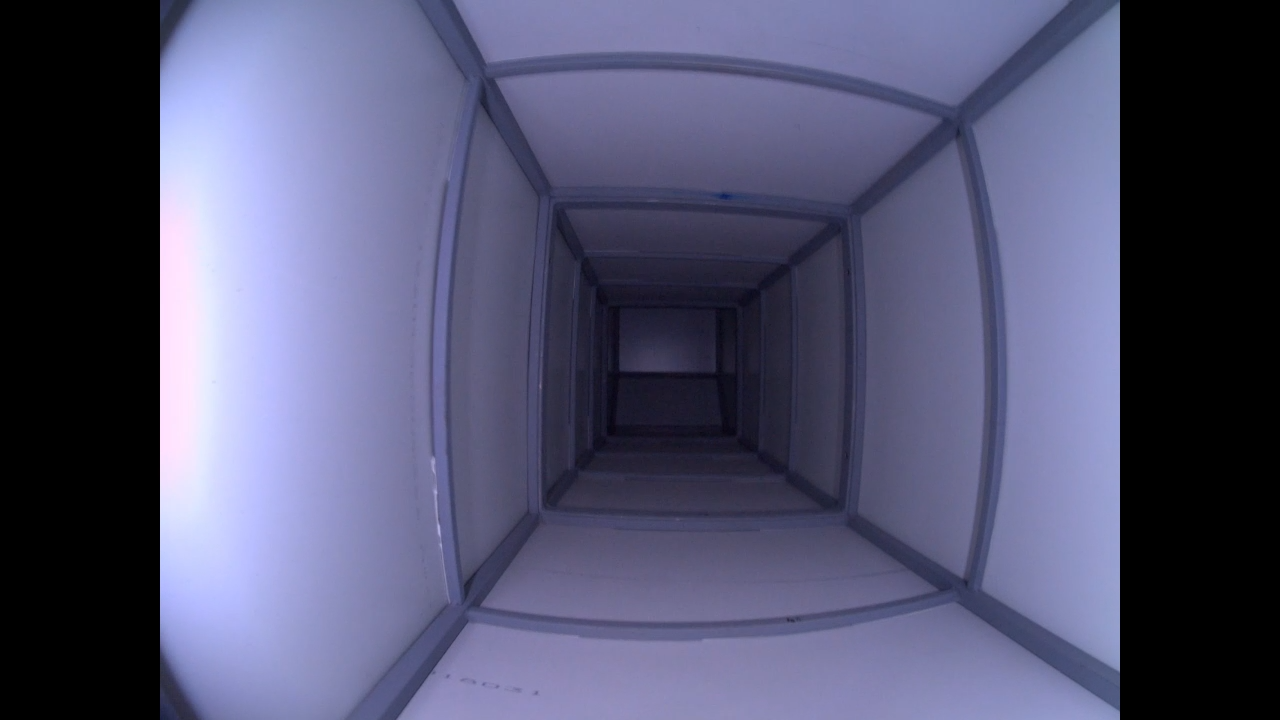divider: (419, 41, 1019, 650)
